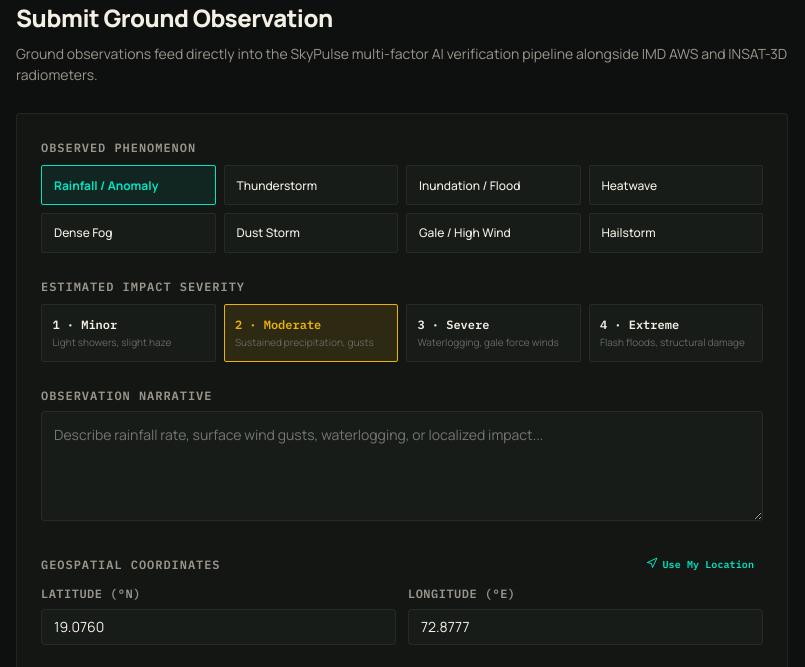
Test: Workflows Component Suite › Citizen Report Submission Workflow (SubmitReport) › submits valid citizen report and shows success message
Replace the text in the text box labelled "Observation Narrative" with "Waterlogging over 2 feet near local market, traffic halted." at x=402, y=466, box [41,411,763,521]
(page scrolled)
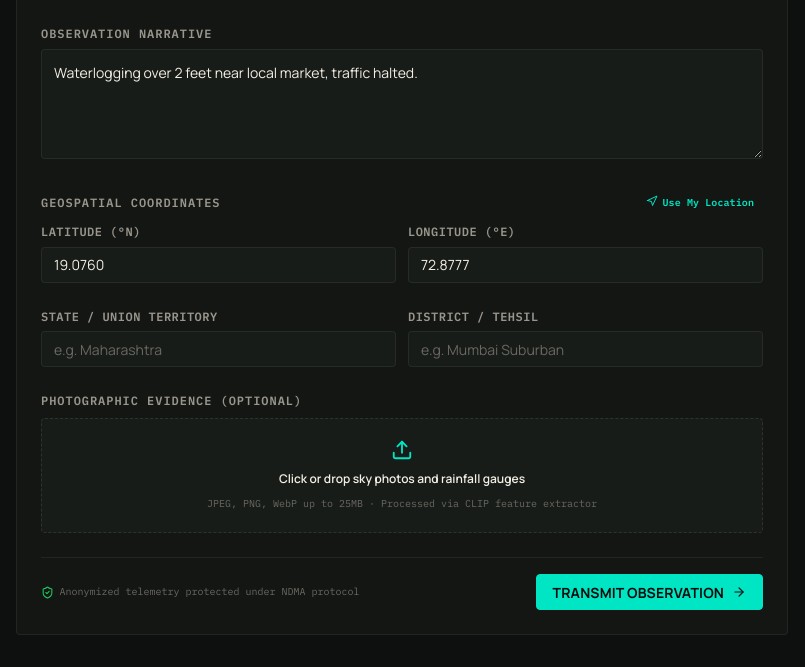
Click the button "TRANSMIT OBSERVATION" at x=649, y=592, box [536,574,763,610]
(page scrolled)
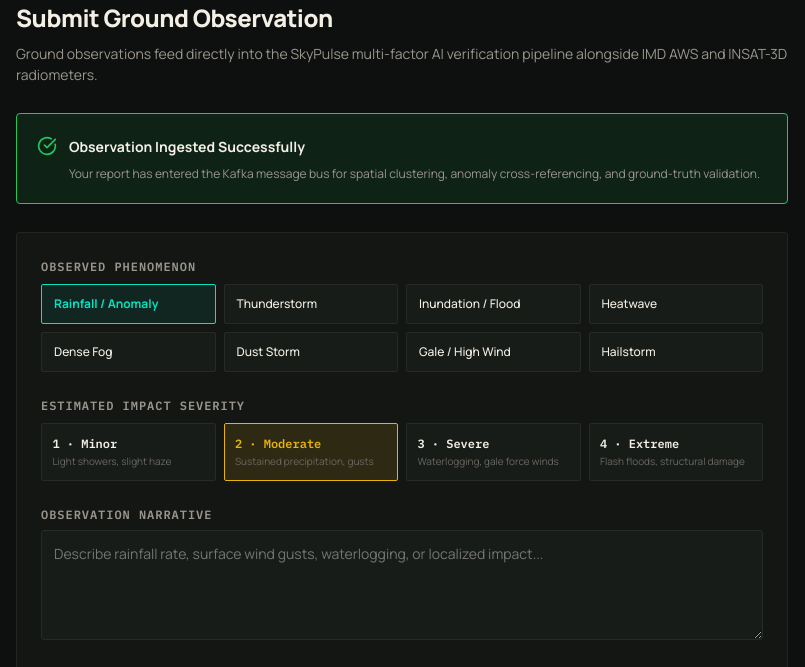
Expected: the text "Observation Ingested Successfully" is shown, [69,137,305,156]
